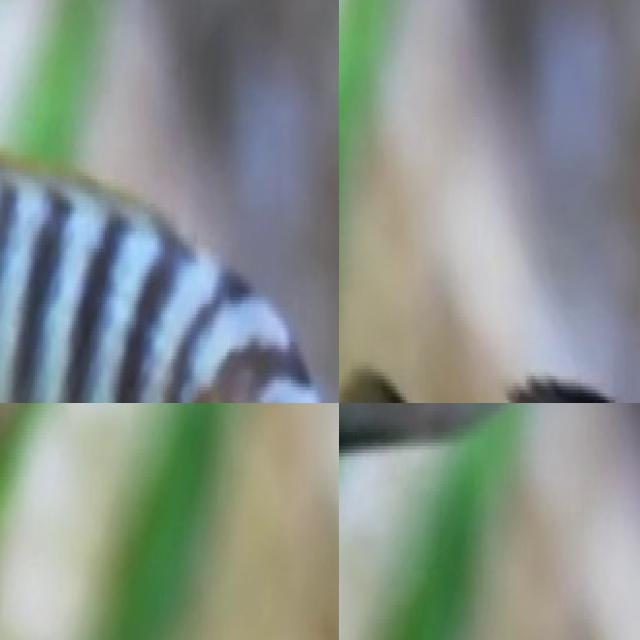fish: (0, 0, 339, 403), (339, 403, 640, 505), (339, 341, 640, 403)
